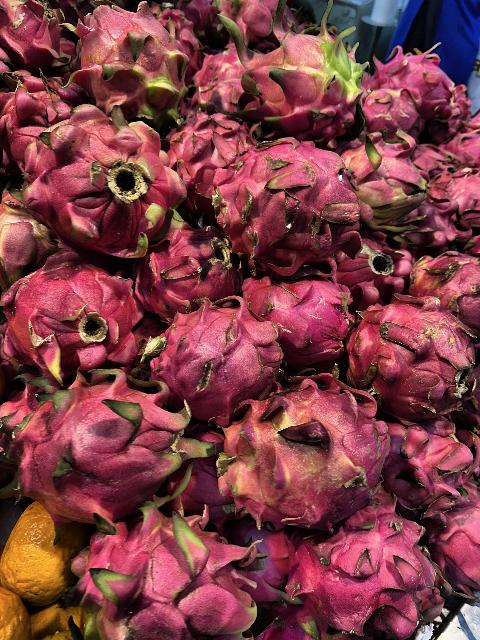buah-naga-belum-matang: (223, 395, 393, 515), (219, 6, 361, 134), (71, 5, 191, 124), (348, 129, 424, 239), (1, 184, 60, 302)
buah-naga-matang: (16, 376, 206, 518), (68, 504, 264, 640), (22, 114, 190, 252), (208, 128, 362, 274), (280, 516, 434, 640), (356, 294, 478, 418), (0, 264, 138, 368), (144, 308, 282, 406), (385, 411, 479, 511), (240, 276, 354, 356), (366, 36, 464, 116), (162, 100, 248, 188), (404, 247, 480, 323), (418, 180, 470, 260), (336, 232, 408, 288), (362, 80, 424, 140)
